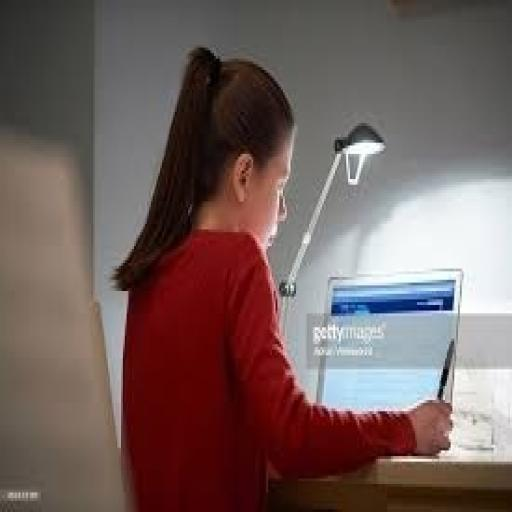using_laptop: (312, 263, 464, 414)
